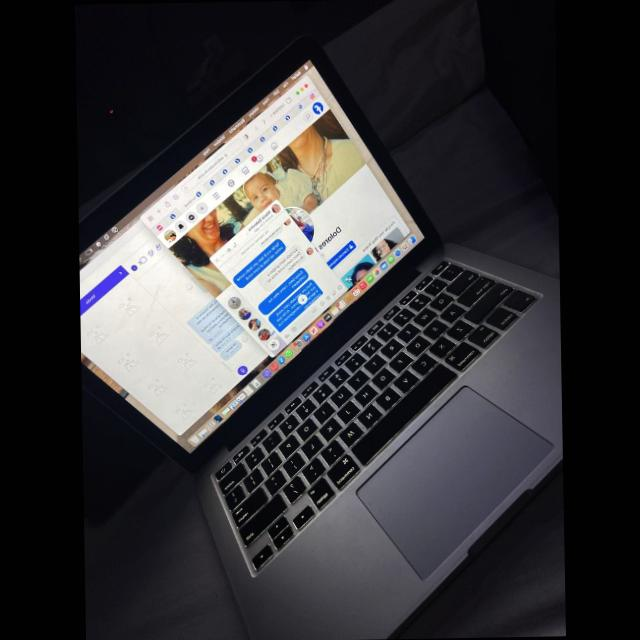laptop: (85, 38, 562, 640)
